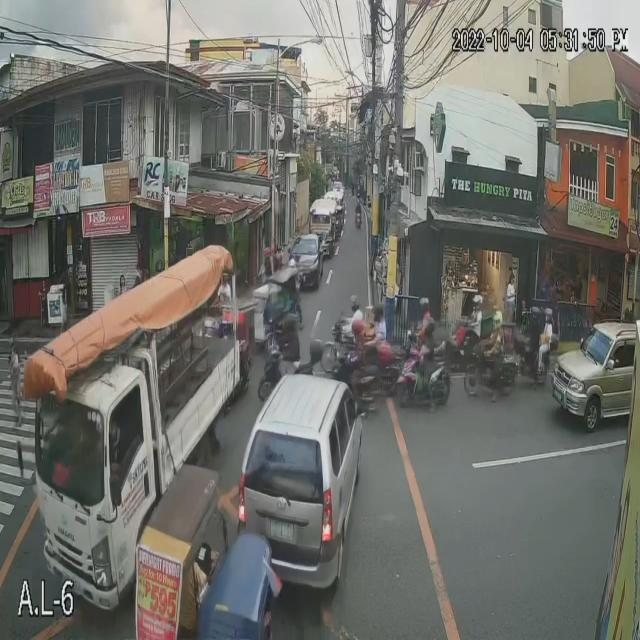full: (491, 310, 504, 334), (371, 302, 384, 324), (472, 292, 483, 314)
half: (422, 317, 435, 338)
